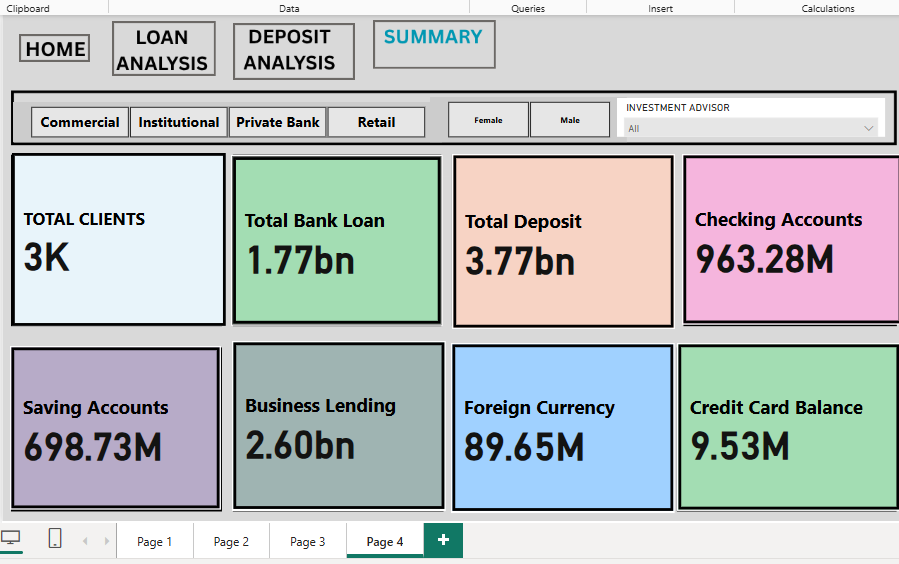

Layout of this report page (visuals, bound fields, positions):
{"tool":"powerbi","page":{"name":"Page 4","canvas":[1280,720],"ordinal":3},"visuals":[{"type":"cardVisual","fields":{"Data":["CountNonNull(banking-clients.Name)"]},"box":[14.2,195.6,303.3,245.2],"z":0},{"type":"cardVisual","fields":{"Data":["Sum(banking-clients.Bank Loans)"]},"box":[324.6,198.4,300.5,242.4],"z":1000},{"type":"cardVisual","fields":{"Data":["banking-clients.Total Deposit"]},"box":[637.8,197,316.1,248],"z":2000},{"type":"cardVisual","fields":{"Data":["Sum(banking-clients.Checking Accounts)"]},"box":[963.8,197,313.2,242.4],"z":3000},{"type":"cardVisual","fields":{"Data":["Sum(banking-clients.Saving Accounts)"]},"box":[11.3,469.1,299.1,232.4],"z":4000},{"type":"cardVisual","fields":{"Data":["Sum(banking-clients.Business Lending)"]},"box":[326,462,303.3,240.9],"z":5000},{"type":"cardVisual","fields":{"Data":["Sum(banking-clients.Foreign Currency Account)"]},"box":[636.4,464.9,317.5,243.8],"z":6000},{"type":"cardVisual","fields":{"Data":["Sum(banking-clients.Credit Card Balance)"]},"box":[956.7,464.9,317.5,238.1],"z":7000},{"type":"slicer","fields":{"Values":["banking-clients.BRId"]},"box":[15.6,123.3,608,56.7],"z":8000},{"type":"slicer","fields":{"Values":["banking-clients.GenderId"]},"box":[606.6,116.2,279.2,63.8],"z":9000},{"type":"slicer","fields":{"Values":["banking-clients.IAId"]},"box":[871.7,117.6,379.8,55.3],"z":10000},{"type":"actionButton","box":[24.1,26.9,100.6,39.7],"z":11000},{"type":"actionButton","box":[155.9,8.5,147.4,78],"z":12000},{"type":"actionButton","box":[327.4,11.3,172.9,80.8],"z":13000},{"type":"actionButton","box":[525.8,7.1,174.3,69.4],"z":13001}]}

Visuals, with their boxes in screenshot pixels (x1, y1, x2, y2):
cardVisual - CountNonNull(banking-clients.Name): 17:154:227:324
cardVisual - Sum(banking-clients.Bank Loans): 232:156:440:324
cardVisual - banking-clients.Total Deposit: 449:155:668:327
cardVisual - Sum(banking-clients.Checking Accounts): 675:155:892:323
cardVisual - Sum(banking-clients.Saving Accounts): 15:344:222:505
cardVisual - Sum(banking-clients.Business Lending): 233:339:443:506
cardVisual - Sum(banking-clients.Foreign Currency Account): 448:341:668:510
cardVisual - Sum(banking-clients.Credit Card Balance): 670:341:890:506
slicer - banking-clients.BRId: 18:104:439:143
slicer - banking-clients.GenderId: 427:99:621:143
slicer - banking-clients.IAId: 611:100:874:138
actionButton: 24:37:93:65
actionButton: 115:25:217:79
actionButton: 234:27:354:83
actionButton: 371:24:492:72
